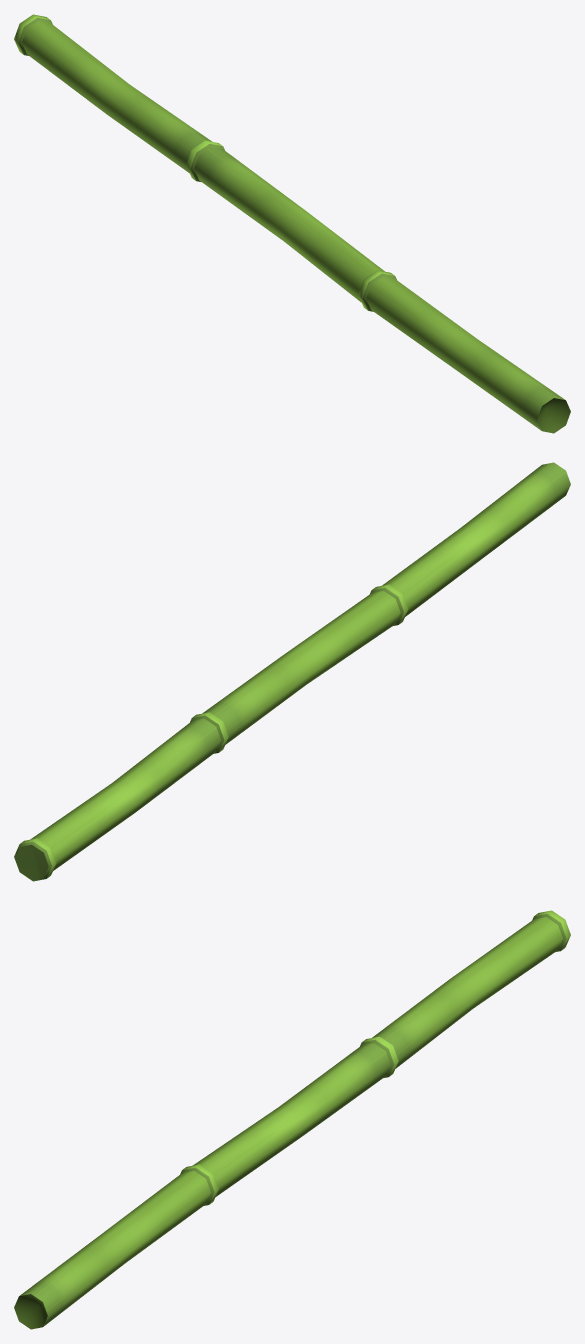
The model's file is bamboo_pole_3.fbx.
3 views of the same model, one above another, from view 1: azimuth 30°, elevation 25°; view 2: azimuth 150°, elevation 25°; view 3: azimuth 330°, elevation 25° (orthographic).
Parts seen in each view (by area): view 1: Cylinder.022; view 2: Cylinder.022; view 3: Cylinder.022.
Part boxes in pixels (left/top/right/bottom): Cylinder.022: left=14, top=14, right=570, bottom=433; Cylinder.022: left=14, top=462, right=570, bottom=881; Cylinder.022: left=14, top=910, right=570, bottom=1329.
Bounding box in the file's own units: 69.75 × 63.43 × 1500.
